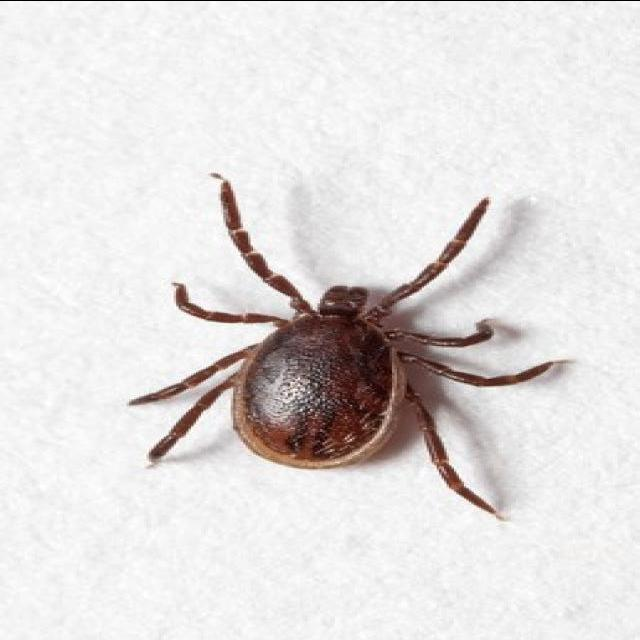Ixodes Ricinus-M: (134, 172, 568, 520)
